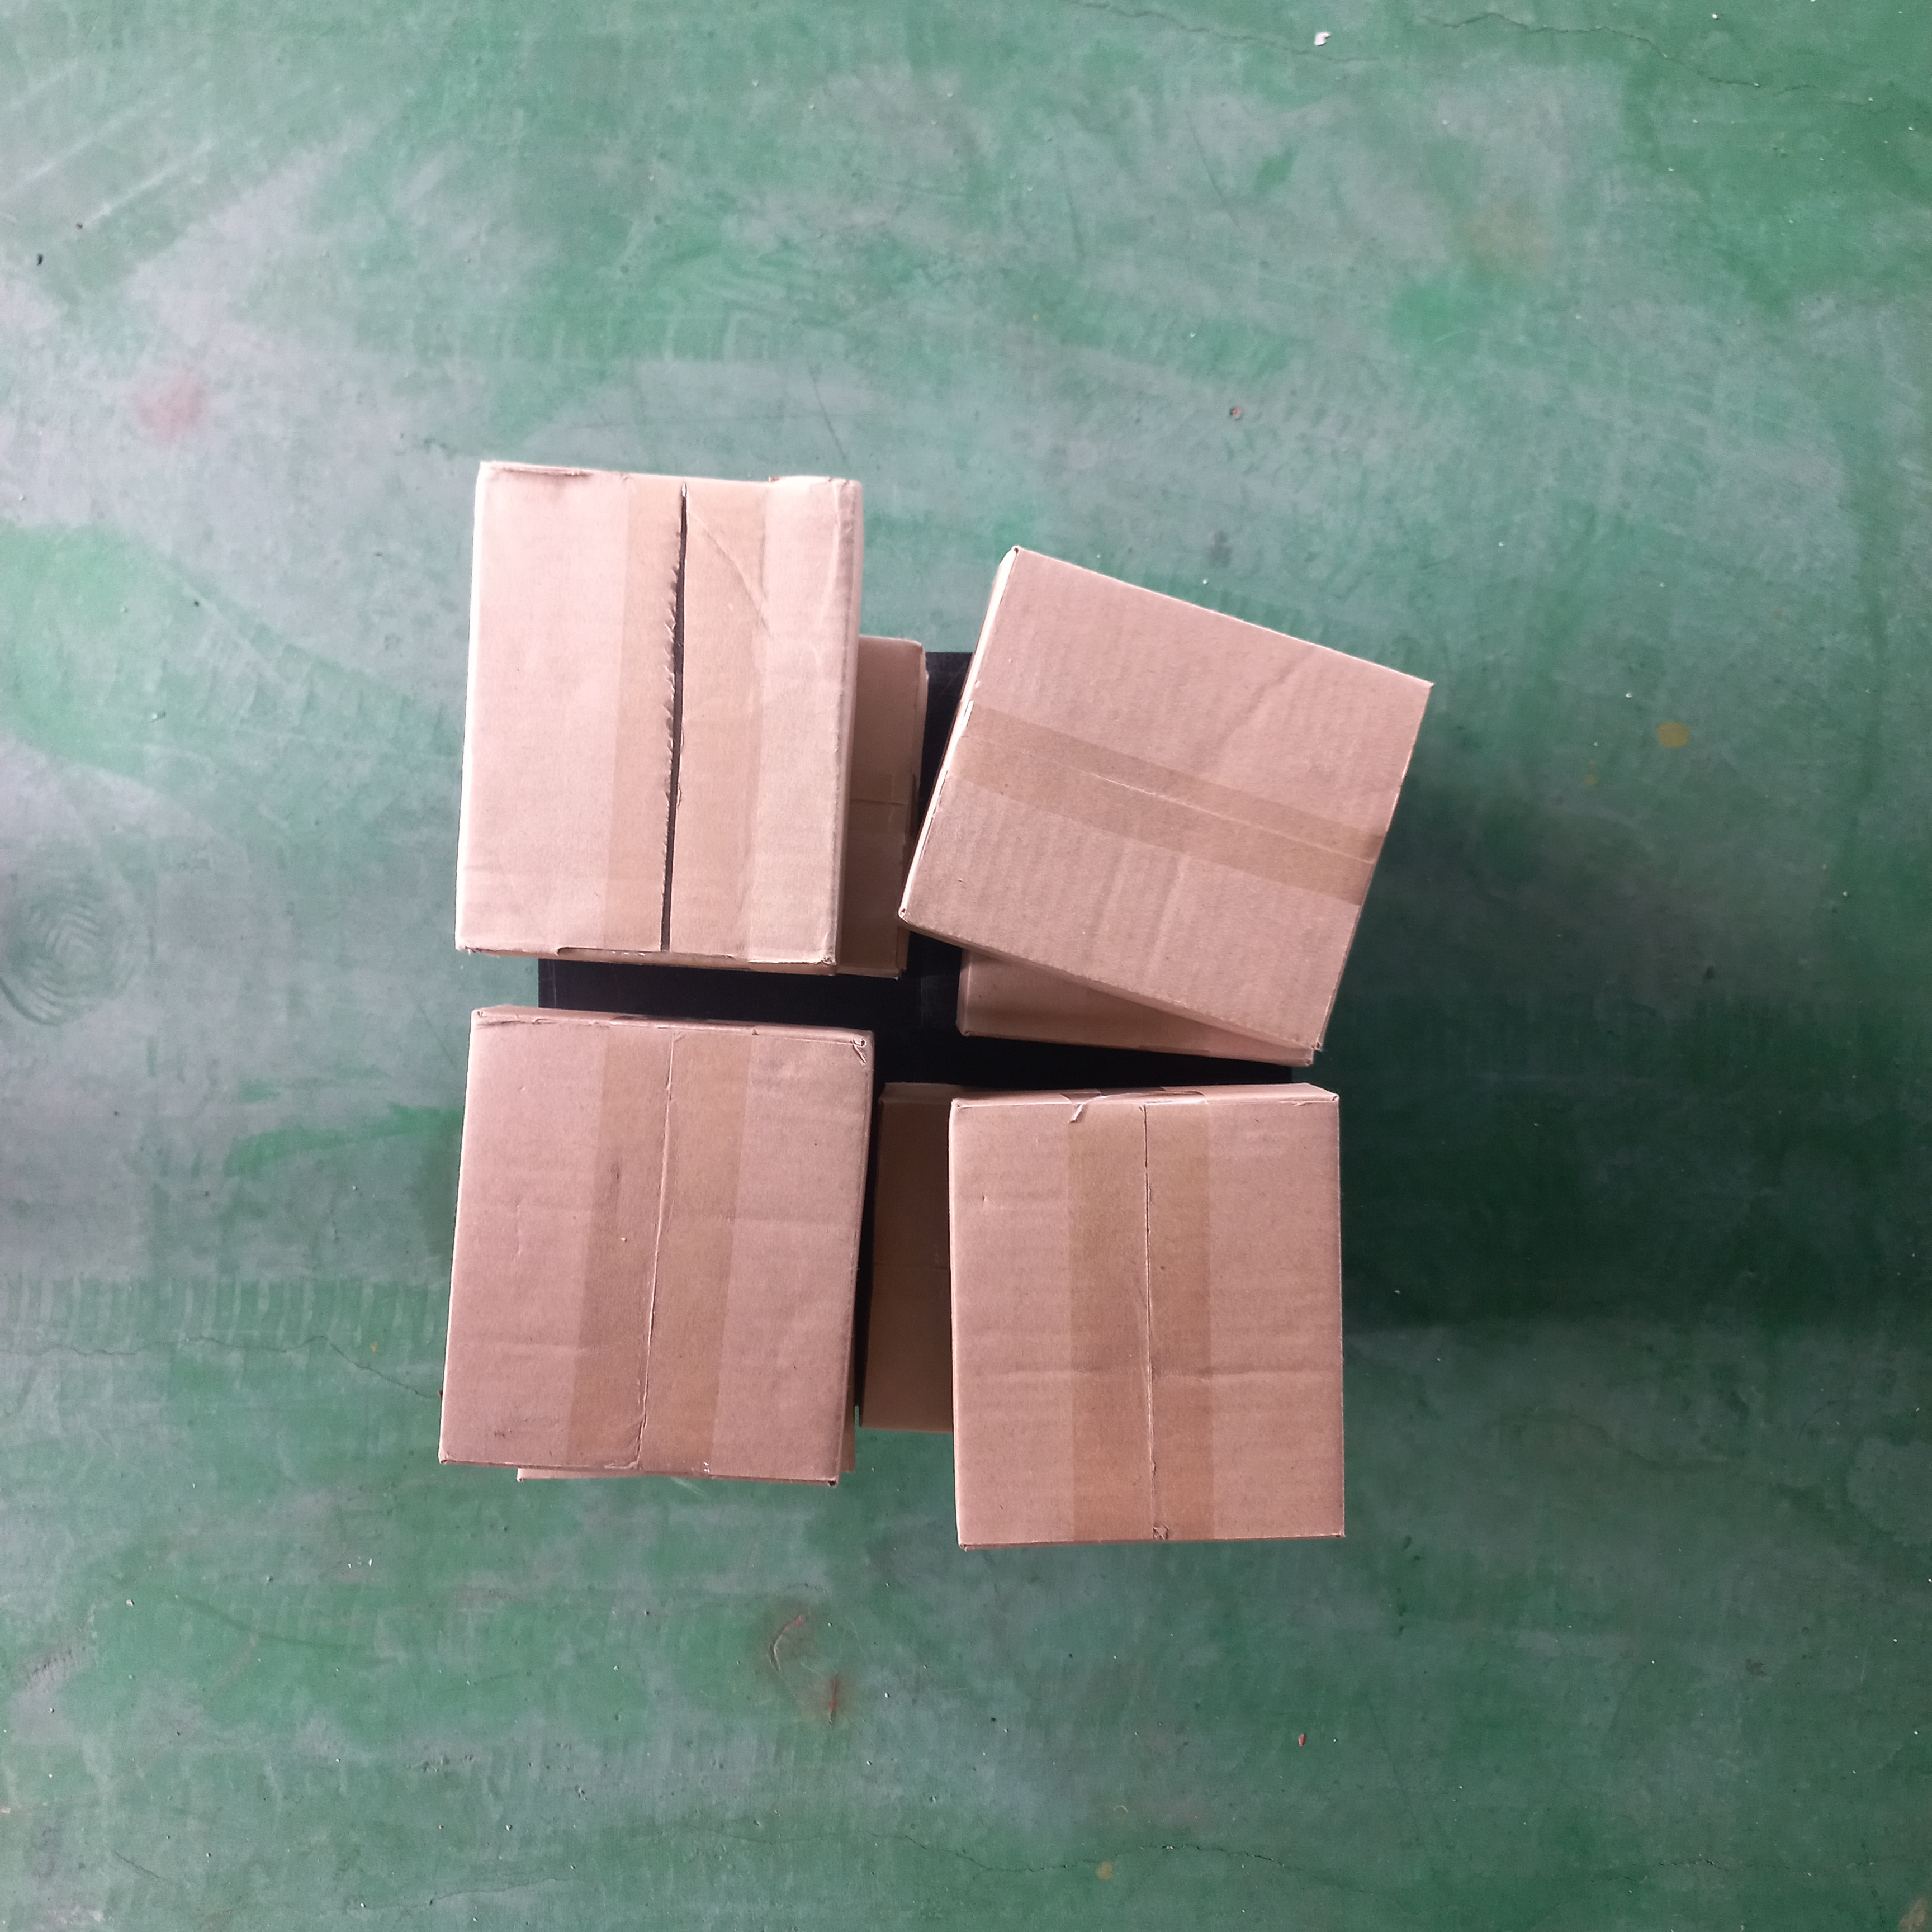box: (892, 534, 1435, 1067), (437, 1005, 879, 1497), (453, 451, 867, 975), (948, 1081, 1348, 1550)
